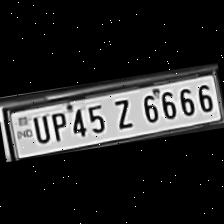4: (65, 103, 89, 138)
5: (82, 100, 109, 135)
6: (134, 88, 160, 124), (192, 79, 216, 114), (156, 86, 179, 120), (175, 83, 197, 116)
P: (45, 107, 69, 142)
U: (27, 110, 52, 145)
Z: (105, 94, 136, 132)
